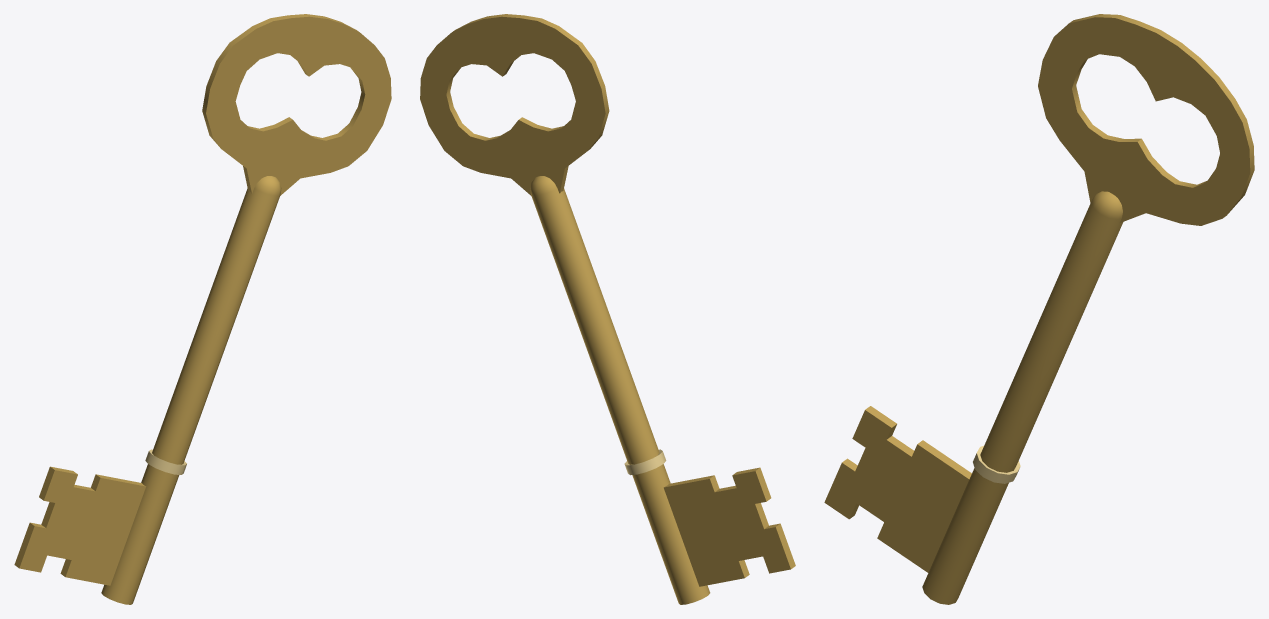
File: key.glb
3 renders of one model, left to right at view 1: azimuth 30°, elevation 25°; view 2: azimuth 150°, elevation 25°; view 3: azimuth 330°, elevation 25°, orthographic. The views are drawn at different scales.
Visible parts, largest first — view 1: Key21.001; view 2: Key21.001; view 3: Key21.001.
Part boxes in pixels (box(x1,y1,x2,y2)): Key21.001: box(14, 14, 391, 604); Key21.001: box(420, 14, 795, 604); Key21.001: box(824, 14, 1254, 604).
Bounding box in the file's own units: 0.9753 × 1.37 × 0.0924.
1 material, 1 textured.
